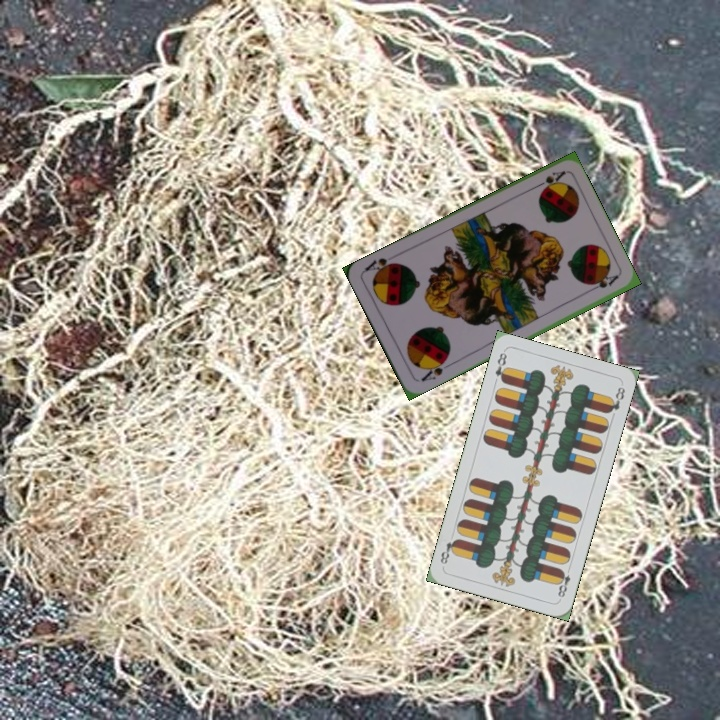E8: (553, 562, 574, 600), (491, 348, 511, 385)
SA: (529, 166, 568, 193), (417, 355, 453, 384)
